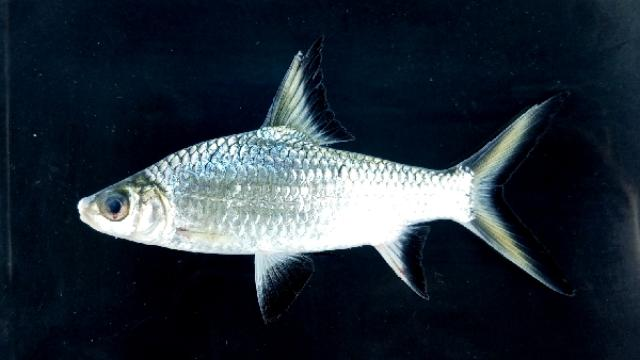Mulut: (56, 182, 110, 246)
Sirip Anal: (357, 217, 453, 313)
Sirip Dada: (164, 212, 250, 260)
Sirip Ekor: (436, 84, 588, 316)
Sirip Perut: (242, 241, 330, 340)
Sirip Punggung: (250, 36, 372, 168)
